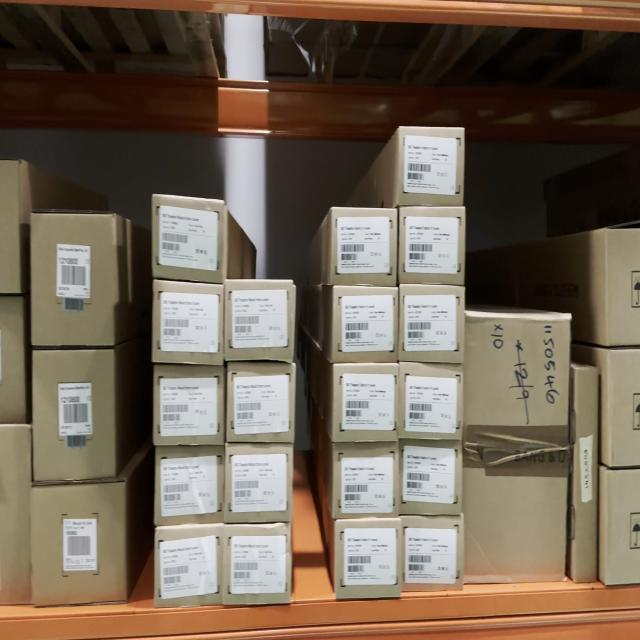box: (464, 314, 570, 578), (32, 348, 119, 482), (34, 484, 127, 603), (32, 214, 109, 346), (153, 194, 223, 283), (153, 274, 225, 360), (330, 206, 400, 289), (153, 367, 229, 443), (155, 448, 228, 524), (224, 520, 292, 600), (398, 440, 468, 517), (227, 363, 296, 441), (226, 443, 292, 524), (398, 360, 464, 439), (224, 279, 296, 351), (333, 516, 400, 592), (573, 364, 597, 576), (332, 364, 396, 443), (399, 212, 466, 287), (158, 527, 222, 603), (401, 123, 464, 200), (334, 444, 399, 516), (404, 511, 466, 585), (399, 290, 464, 360), (332, 289, 398, 357)
